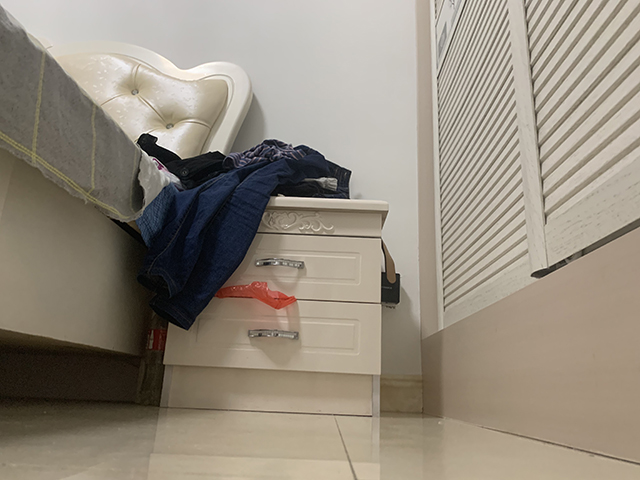bed: (1, 2, 256, 408)
cabinet: (413, 1, 639, 467), (158, 196, 390, 418)
